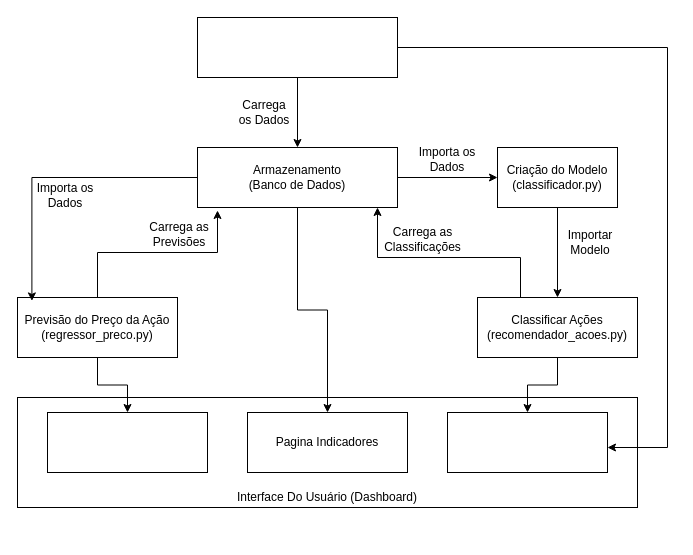
Some shapes in this 693 by 555 pixel diagram are drawn without their labels. Here are the shapes that lost their labels. From the top down, the centre of each, then its label:
At pixel 297 47: "Coleta de Dados (scraper_indicadores.py)".
At pixel 127 442: "Página Previsões".
At pixel 527 442: "Página Recomendações".
